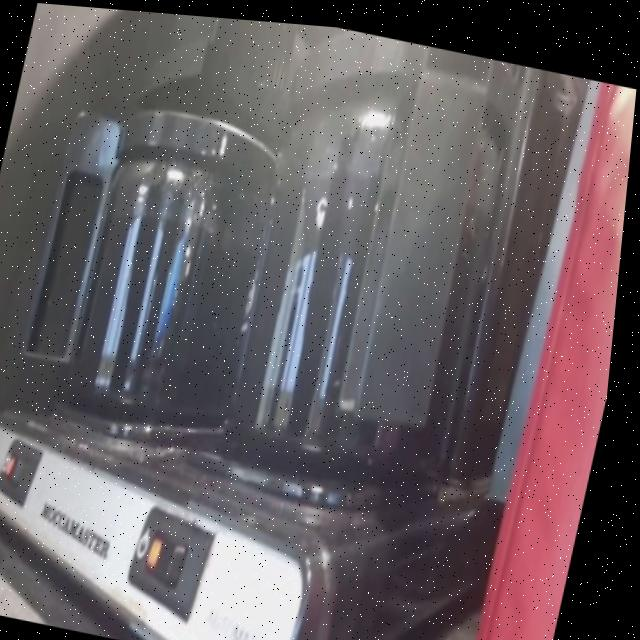coffee: (224, 93, 501, 472), (56, 152, 285, 438)
